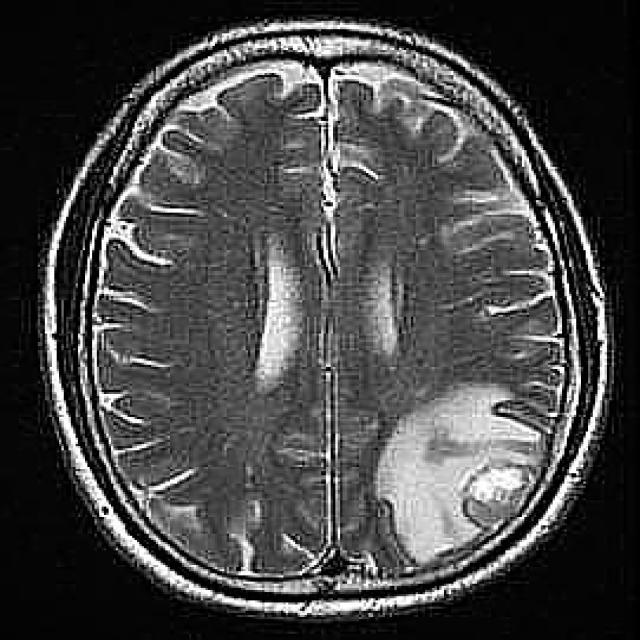Tumor-Cell: (359, 390, 553, 538)
